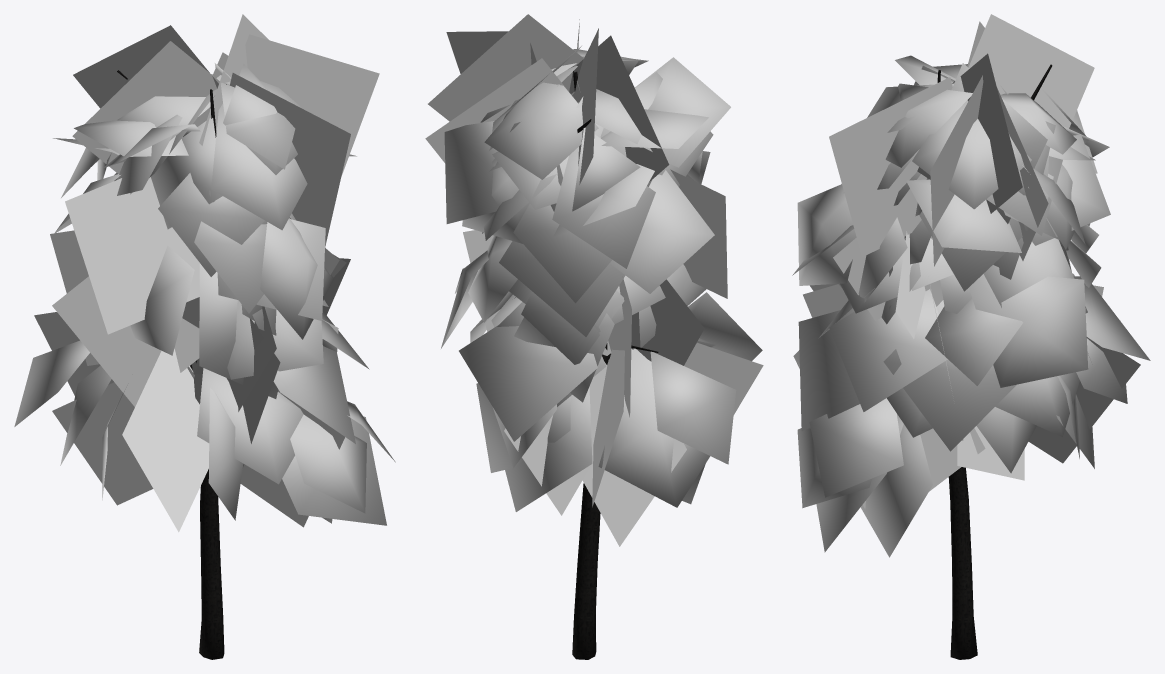
The model's file is Birch 1.fbx.
3 renders of one model, left to right at view 1: azimuth 30°, elevation 25°; view 2: azimuth 150°, elevation 25°; view 3: azimuth 270°, elevation 25°, orthographic. The views are drawn at different scales.
Visible parts, largest first — view 1: LOD0; view 2: LOD0; view 3: LOD0.
Part boxes in pixels (bbox=[...]): LOD0: bbox=[14, 14, 395, 659]; LOD0: bbox=[425, 14, 763, 659]; LOD0: bbox=[792, 14, 1150, 659].
Size of what is drawn, in the model's own units: 2170 by 4059 by 2104.
